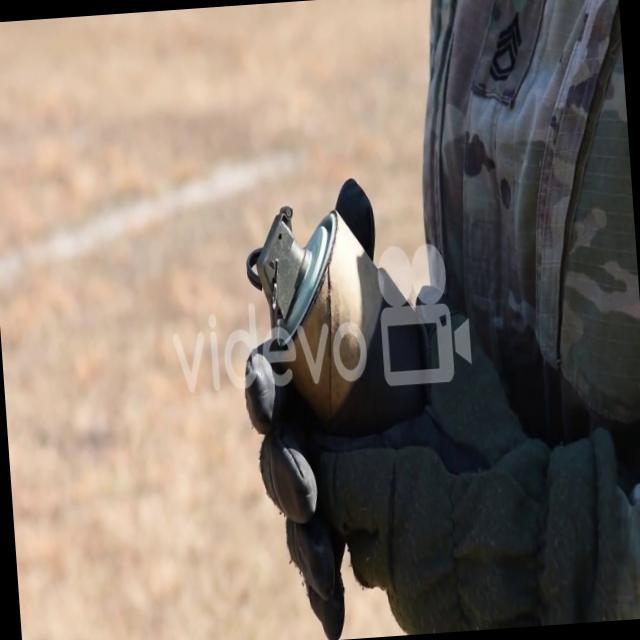grenade: (234, 184, 422, 434)
